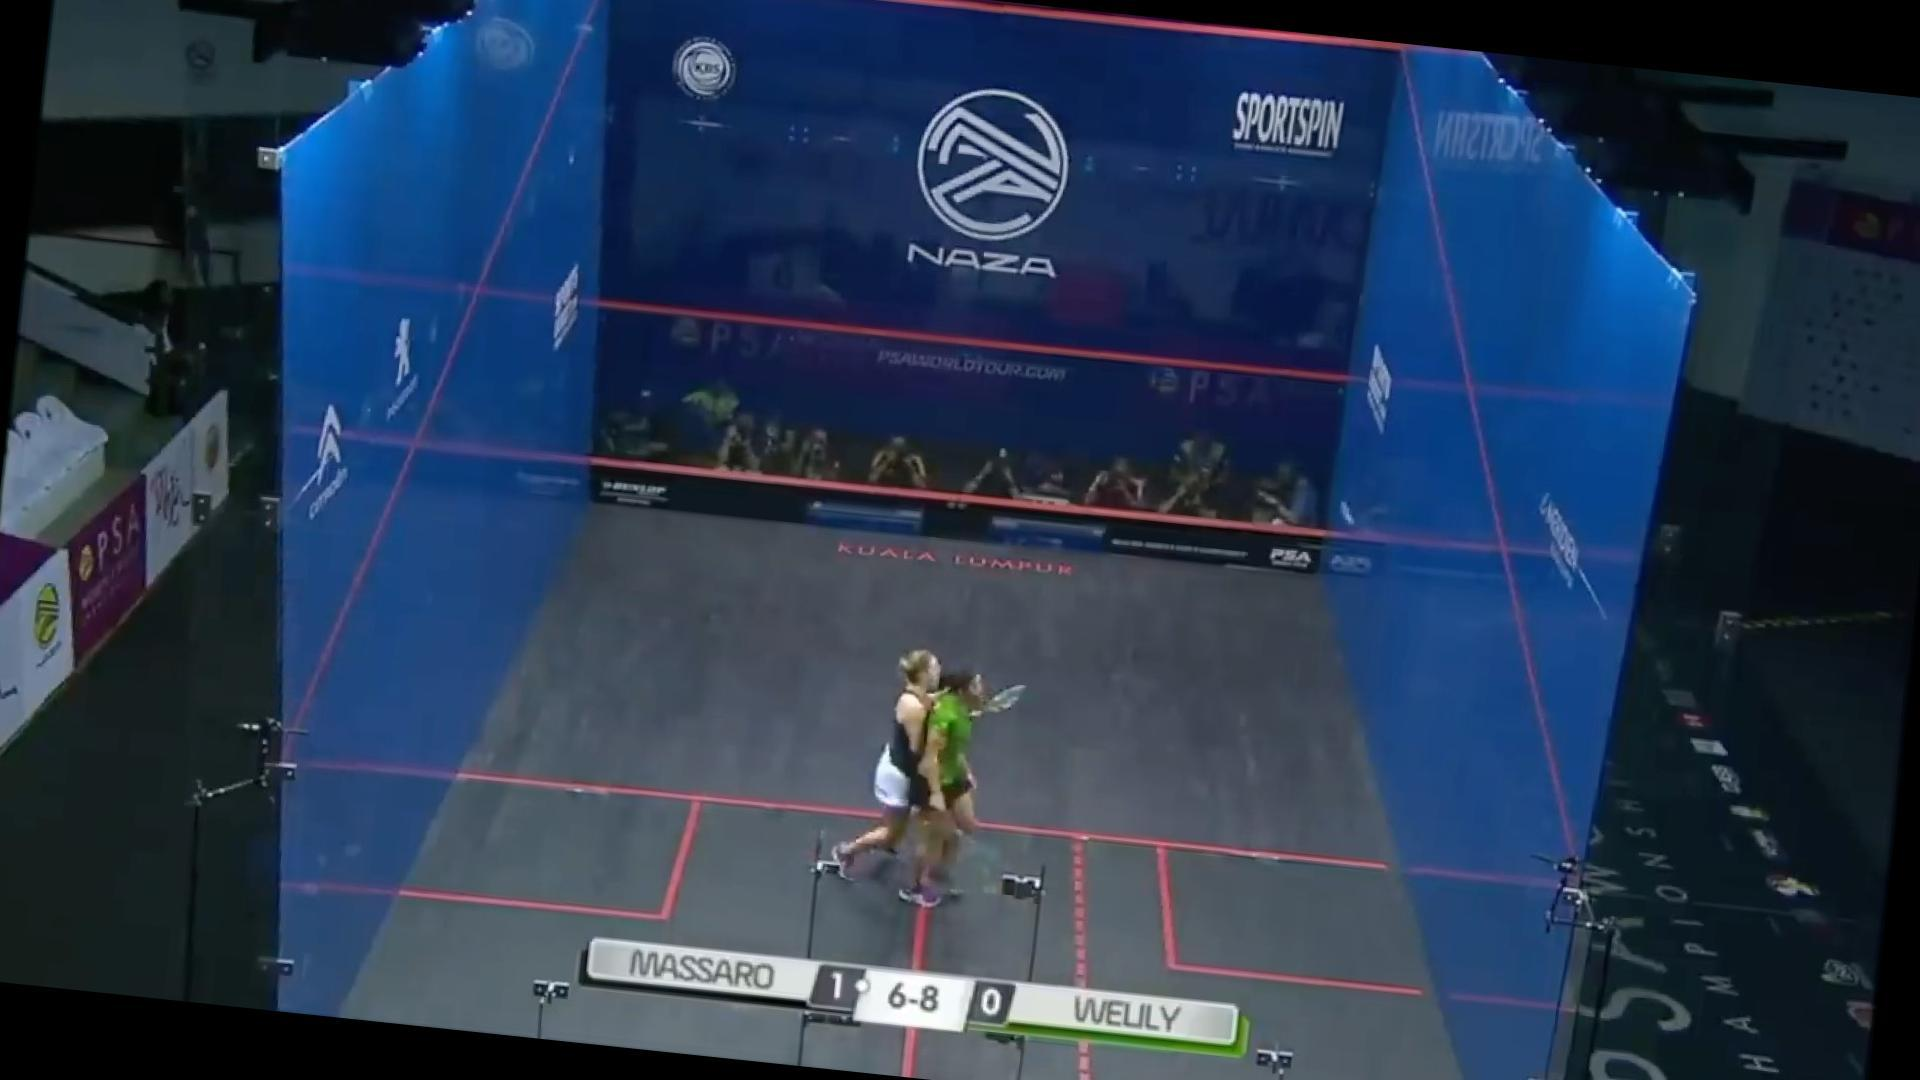Squash-Ball: (1323, 496, 1366, 545)
